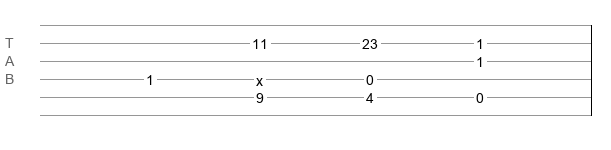0: (366, 72, 374, 82), (476, 90, 484, 100)
1: (146, 72, 154, 82), (476, 54, 484, 64), (476, 36, 484, 46)
11: (252, 36, 268, 46)
23: (362, 36, 378, 46)
4: (366, 90, 374, 100)
9: (256, 90, 264, 100)
x: (256, 73, 263, 81)
